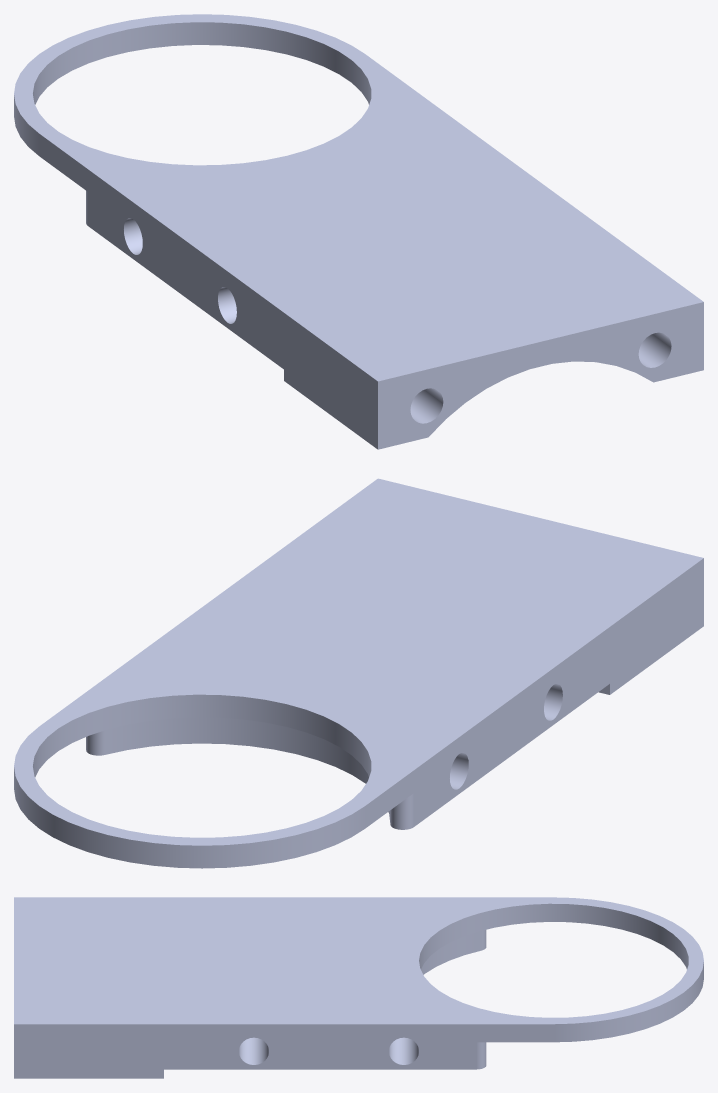
File: tapa-codo.gltf
3 renders of one model, top to bottom at view 1: azimuth 30°, elevation 25°; view 2: azimuth 150°, elevation 25°; view 3: azimuth 270°, elevation 25°, orthographic. The views are drawn at different scales.
Parts seen in each view (by area): view 1: codo; view 2: codo; view 3: codo.
Boxes of the visible parts, box(x1,y1,x2,y2) form: codo: box(14, 14, 703, 449); codo: box(14, 478, 703, 868); codo: box(14, 897, 703, 1078).
Bounding box in the file's own units: 0.03 × 0.006 × 0.069.
